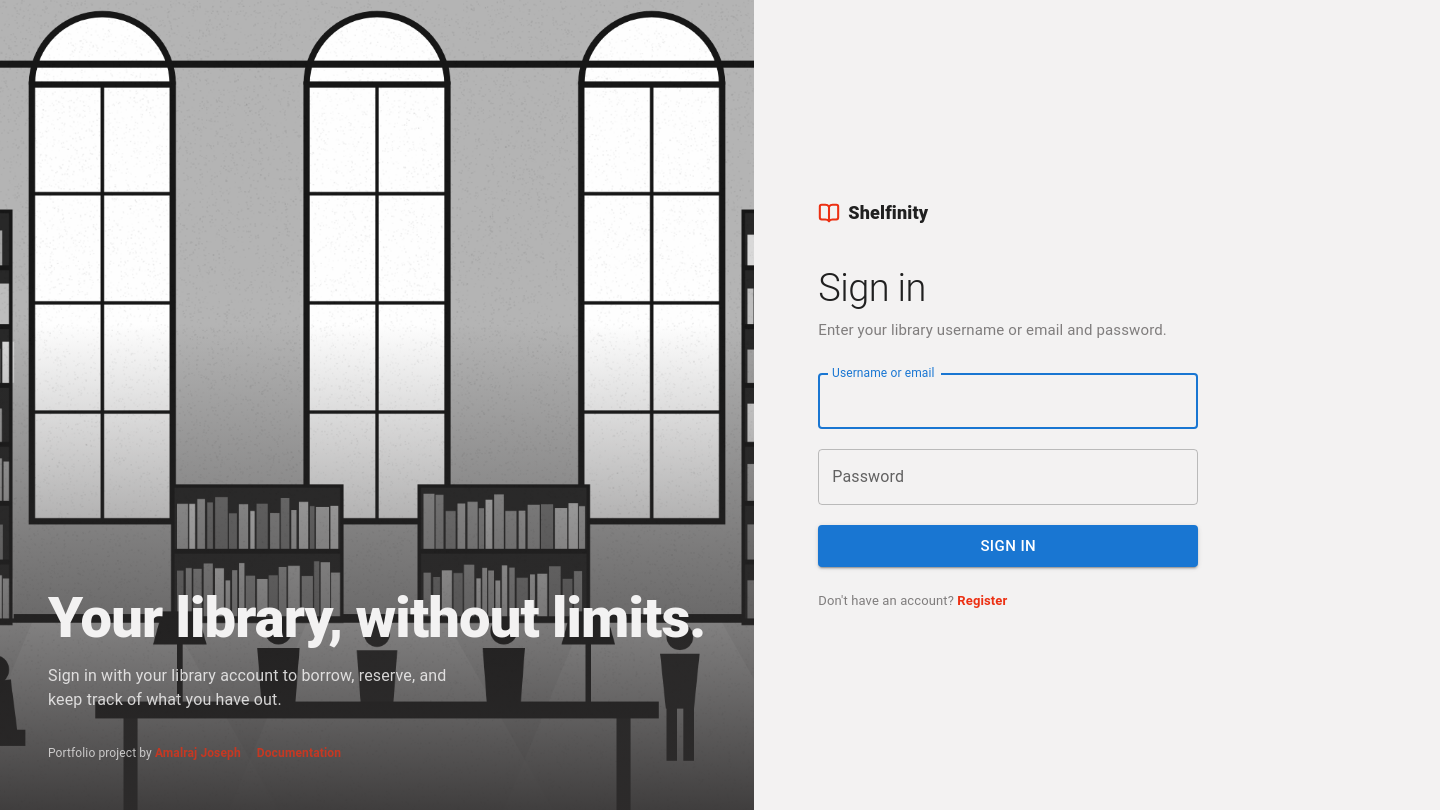
Test: LoginPage › shows an error message when Keycloak rejects the credentials
Type "admin" into the field with test id "login-username" at (1008, 401), box top-left (818, 373), bottom-right (1198, 429)
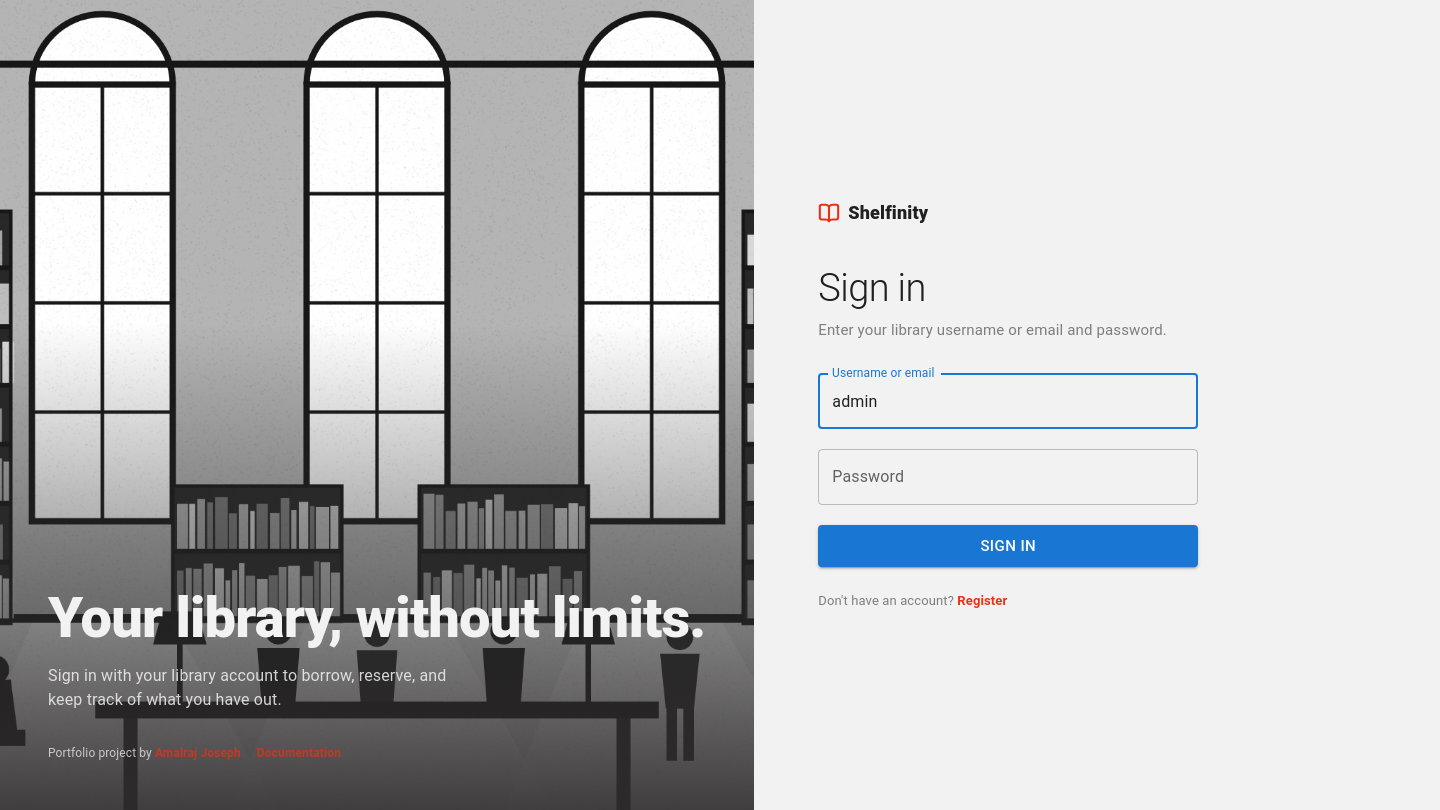
Type "wrong" into the password field with test id "login-password" at (1008, 477), box top-left (818, 449), bottom-right (1198, 505)
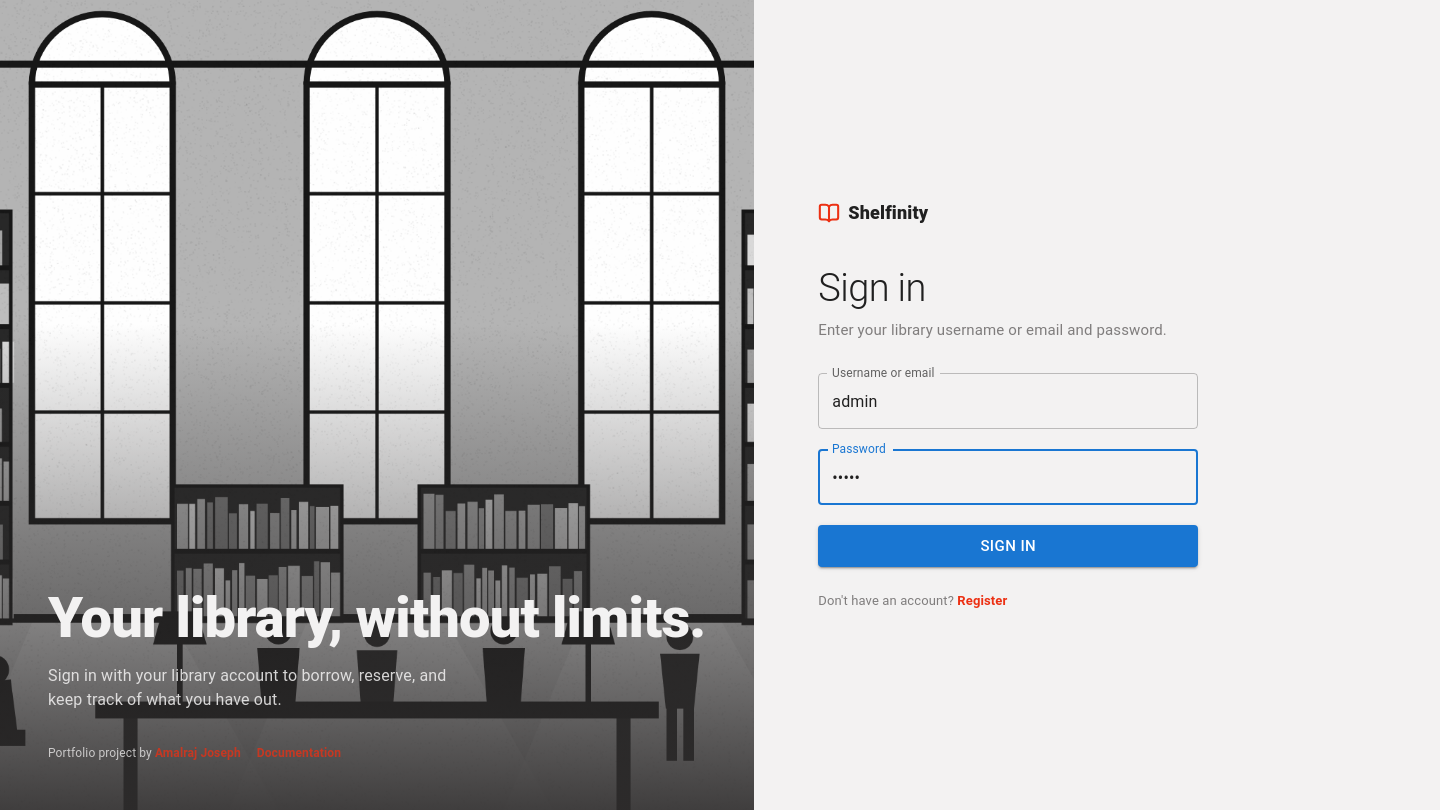
Click the button with test id "login-submit" at (1008, 546), box top-left (818, 525), bottom-right (1198, 567)
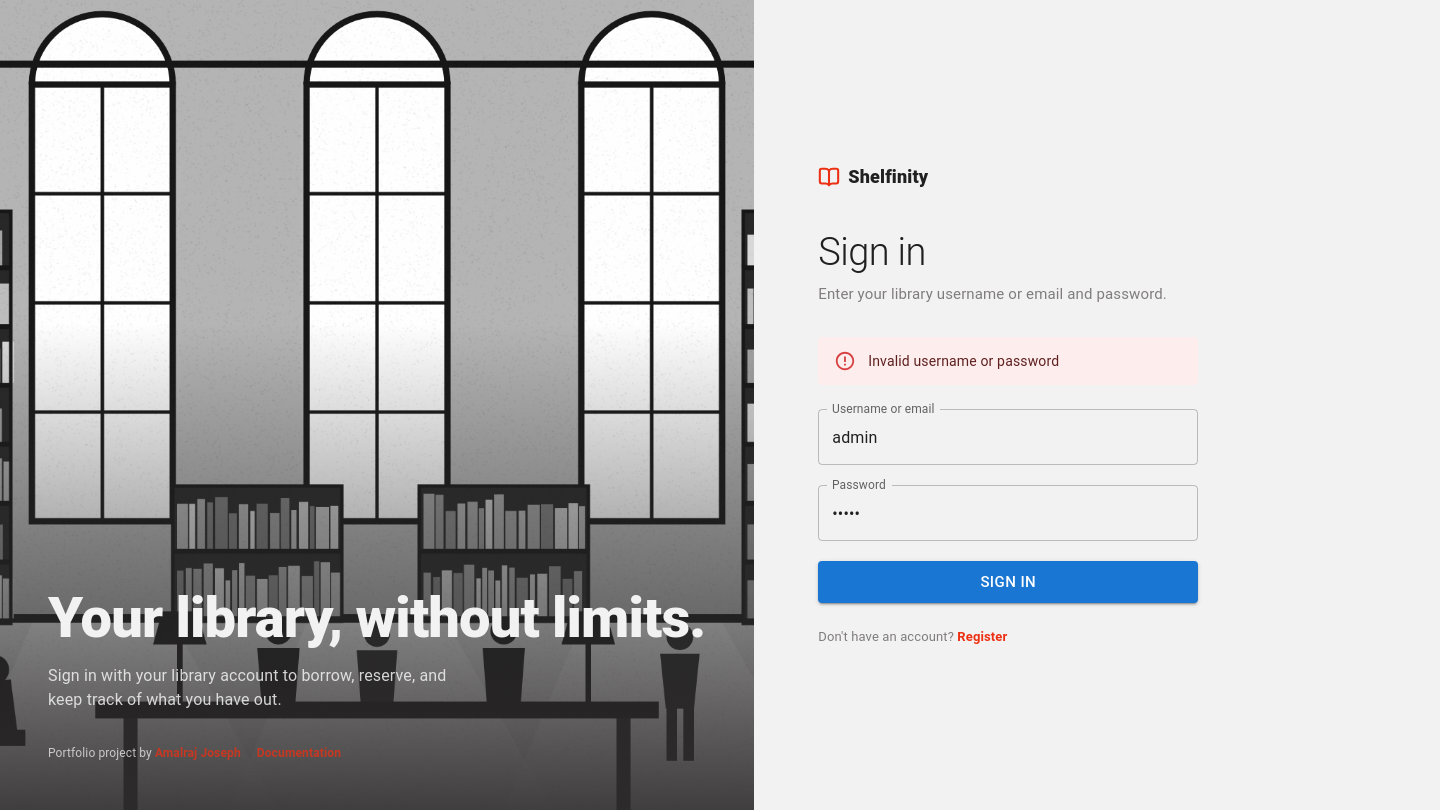
expect the text "Invalid username or password" is shown: met, box top-left (868, 353), bottom-right (1059, 369)
